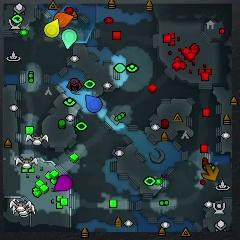p1: (85, 95, 102, 113)
p2: (62, 29, 76, 49)
p3: (54, 175, 72, 192)
p4: (44, 18, 59, 38)
p5: (53, 12, 73, 27)
x5: (202, 163, 220, 181)
